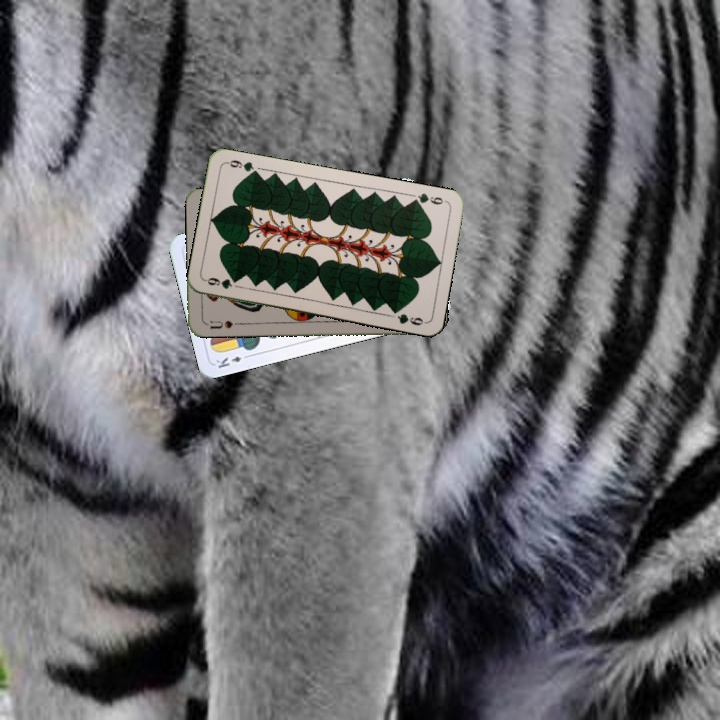EK: (212, 350, 253, 371)
G9: (407, 189, 449, 207), (202, 273, 234, 292)
SU: (202, 317, 242, 331)
